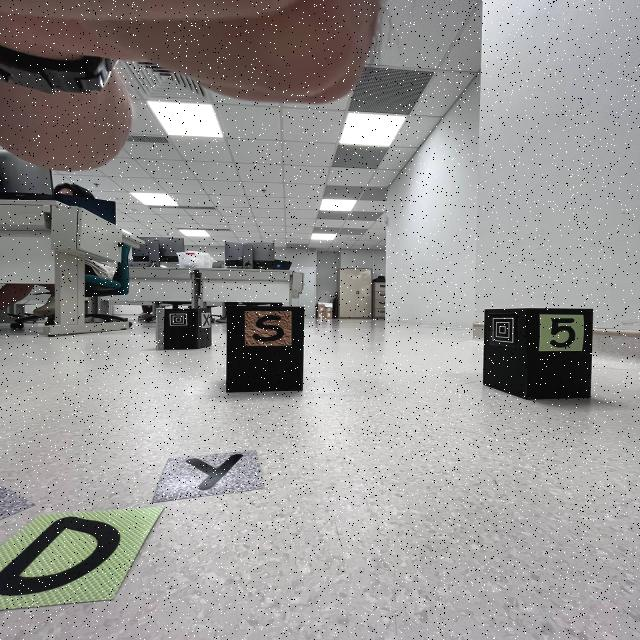D_id23: (1, 507, 164, 610)
S_id28: (245, 310, 292, 346)
X_id33: (201, 313, 211, 328)
Y_id34: (156, 449, 265, 504)
bullseye-id10: (489, 313, 521, 347), (168, 312, 189, 327)
five_id15: (540, 314, 584, 351)
